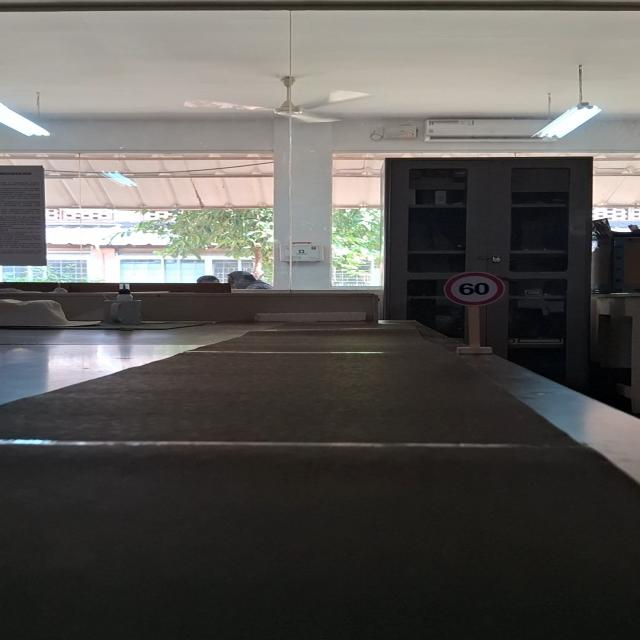Speed60: (442, 270, 507, 307)
